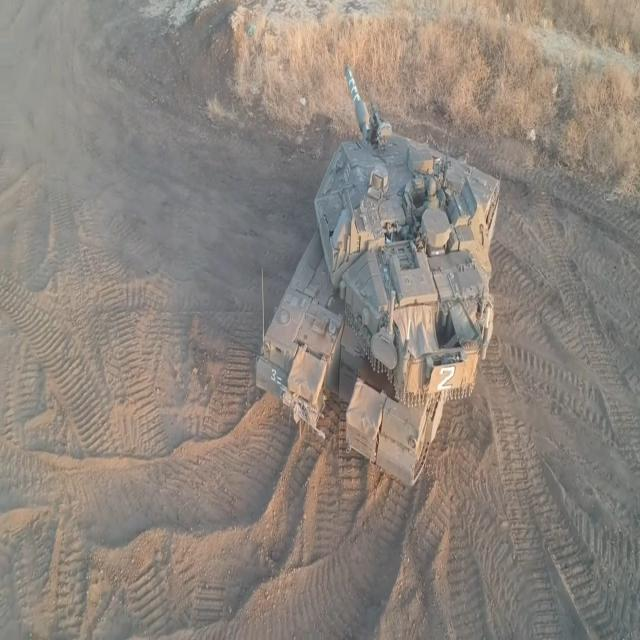tank: (258, 41, 502, 524)
